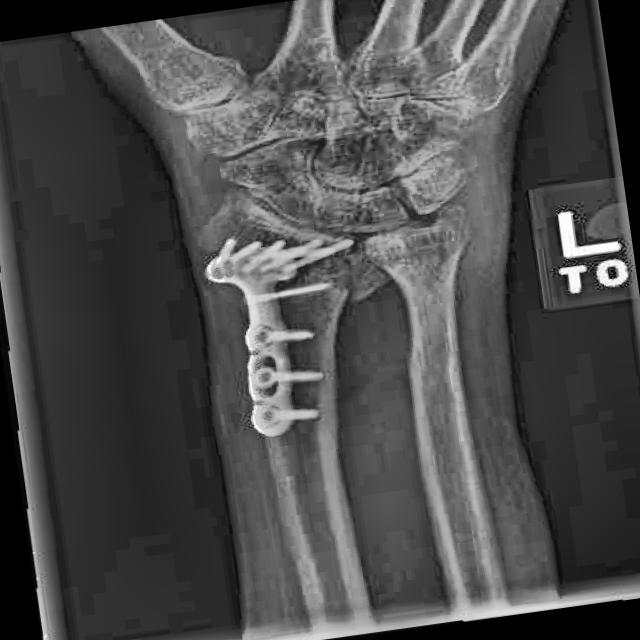wrist positive: (177, 205, 406, 327)
